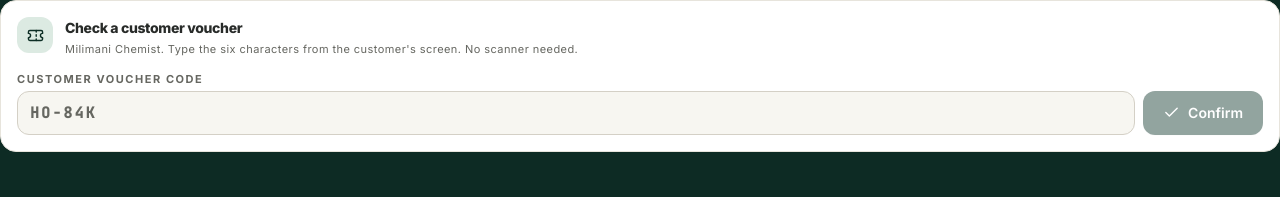
it: voucher redemption at the counter › refuses a wrong code without pretending a trade was logged
Type "HO-ZZZ" into the field with test id "voucher-redeem-code" at [576, 113], box [17,91,1135,135]
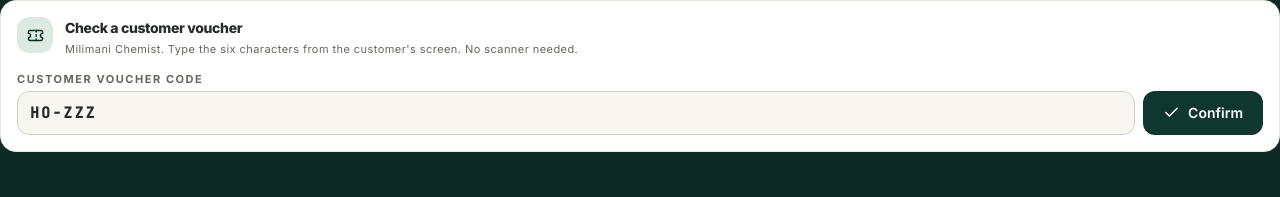
Click the button with test id "voucher-redeem-submit" at [1203, 113], box [1143,91,1263,135]
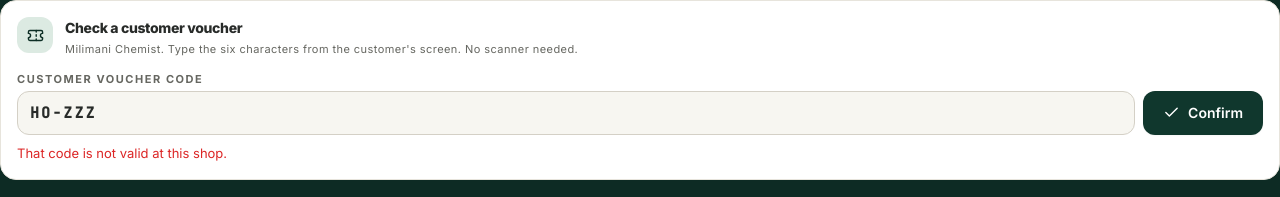
Result: the text with test id "voucher-redeem-error" shows "not valid at this shop" at [17,145,227,161]
